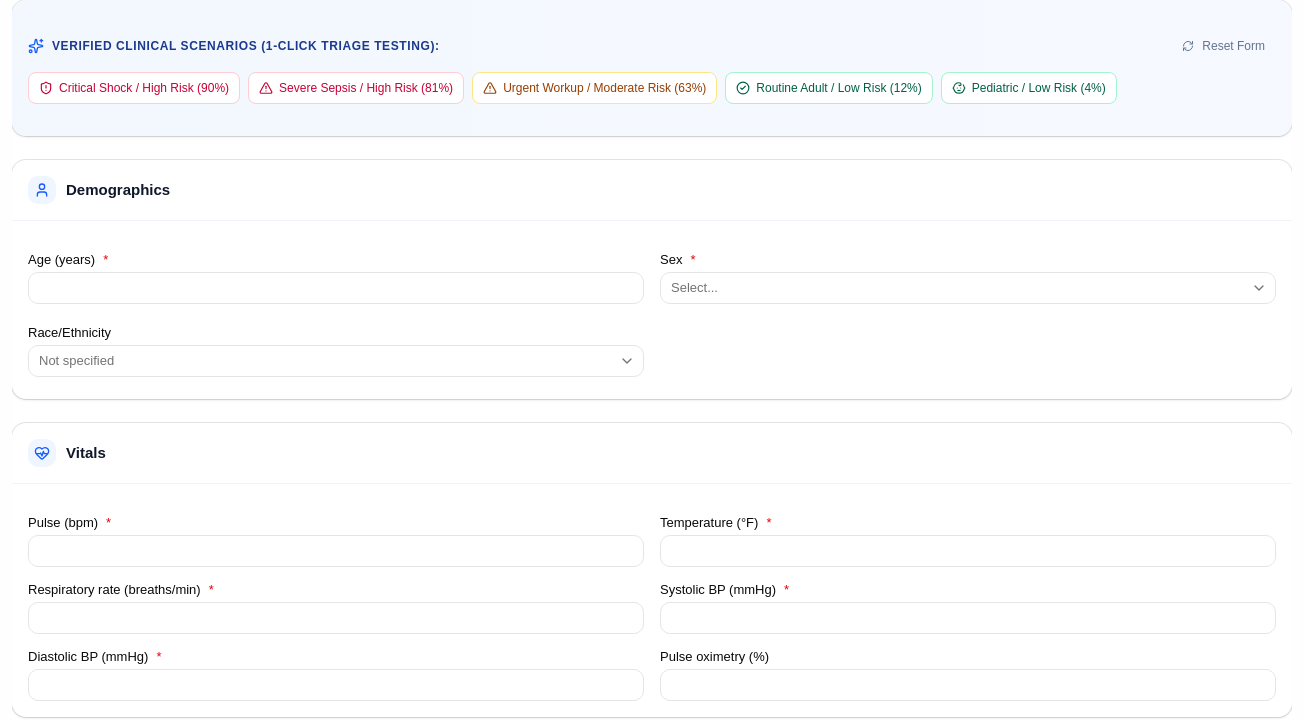
it: PatientRecordForm › shows the confirmed human-readable NHAMCS labels, not raw codes
This screenshot has width=1304, height=720.
Click the dropdown named "Sex": (694, 288) [660,272,1276,304]
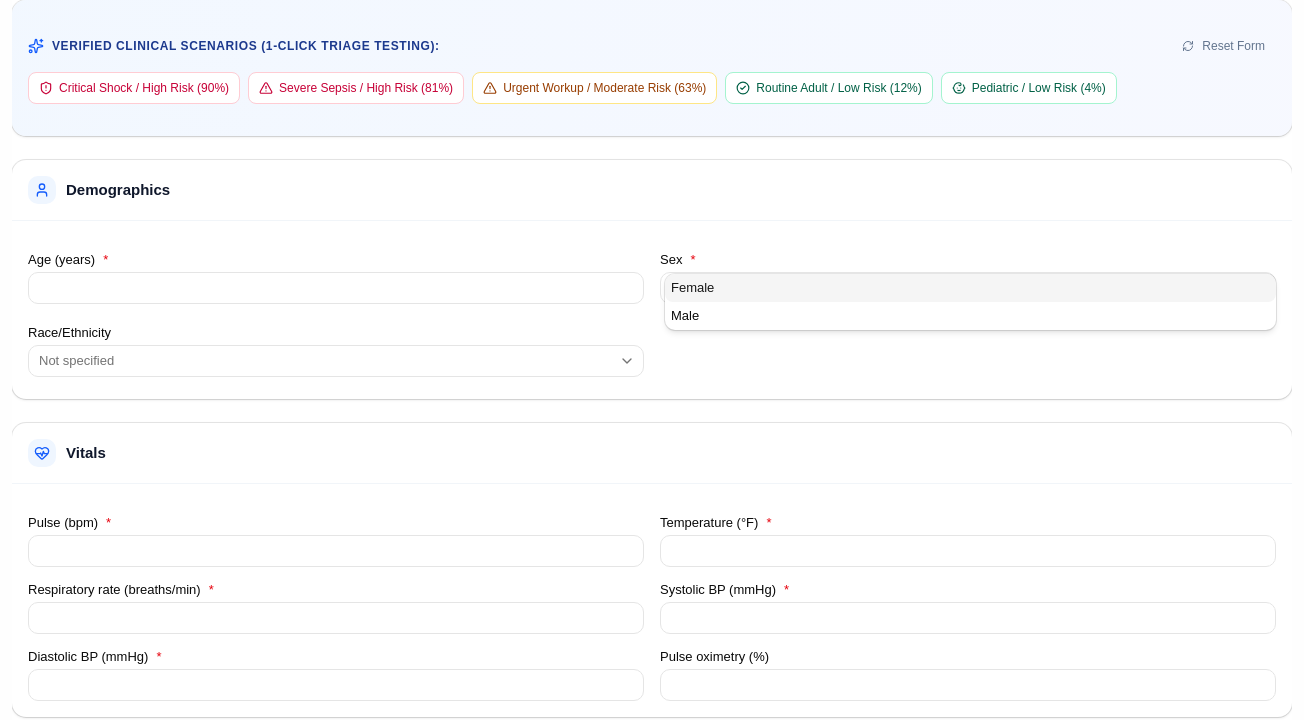
expect the option "Female" is shown: met, box [665,274,1276,302]
expect the option "Male" is shown: met, box [671,308,699,323]
Press Escape
(page scrolled)
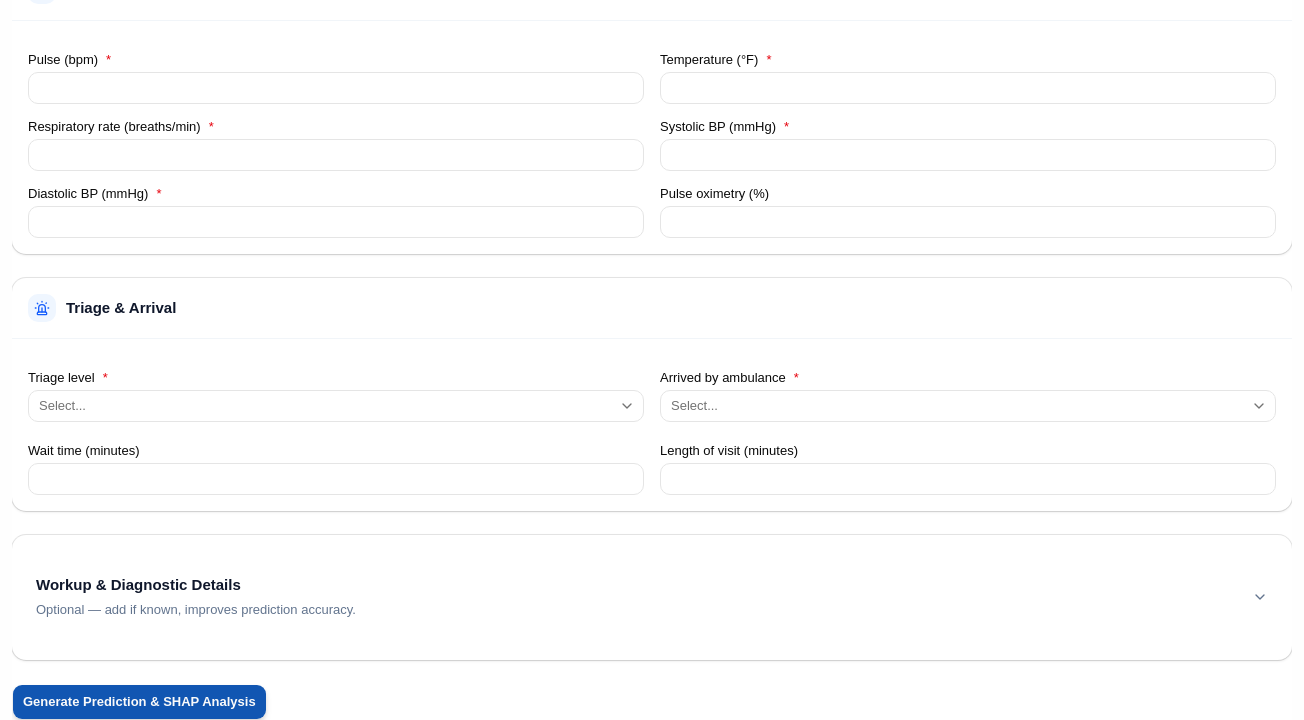
Click the dropdown named "Triage level": (62, 406) [28,390,644,422]
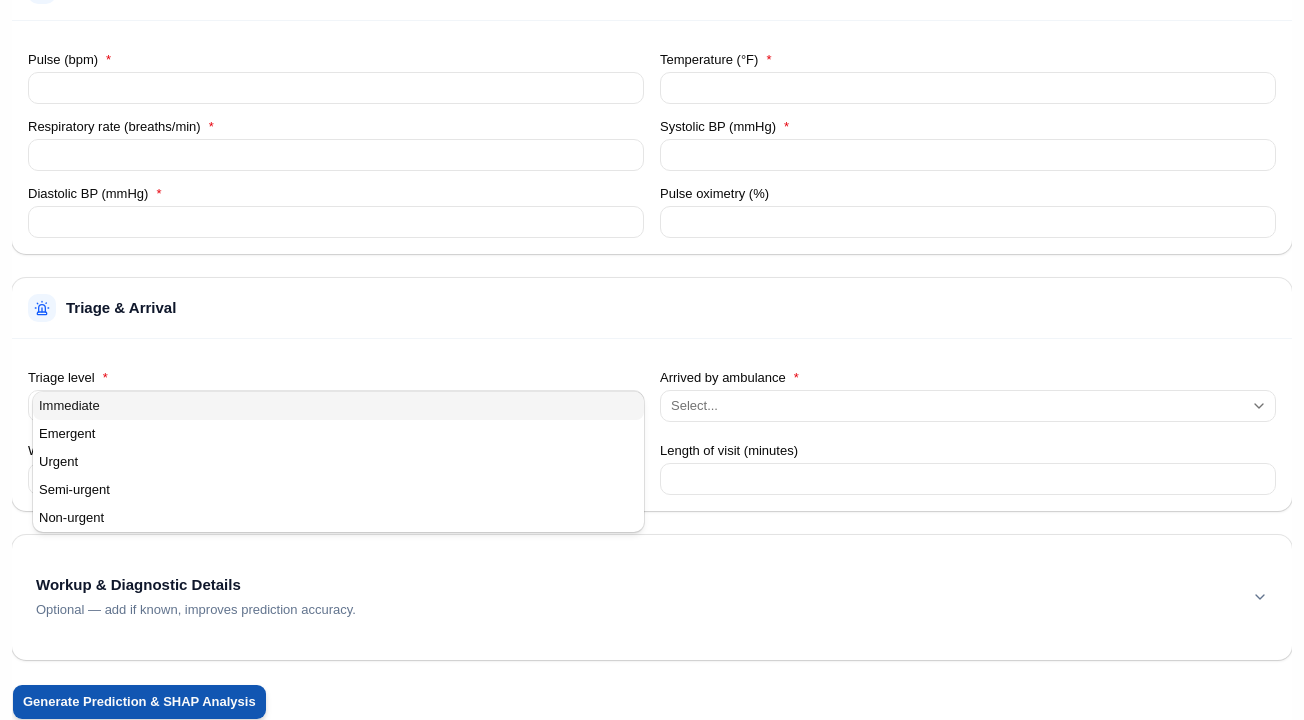
expect the option "Immediate" is shown: met, box [33,392,644,420]
expect the option "Non-urgent" is shown: met, box [39,510,104,525]
Press Escape
(page scrolled)
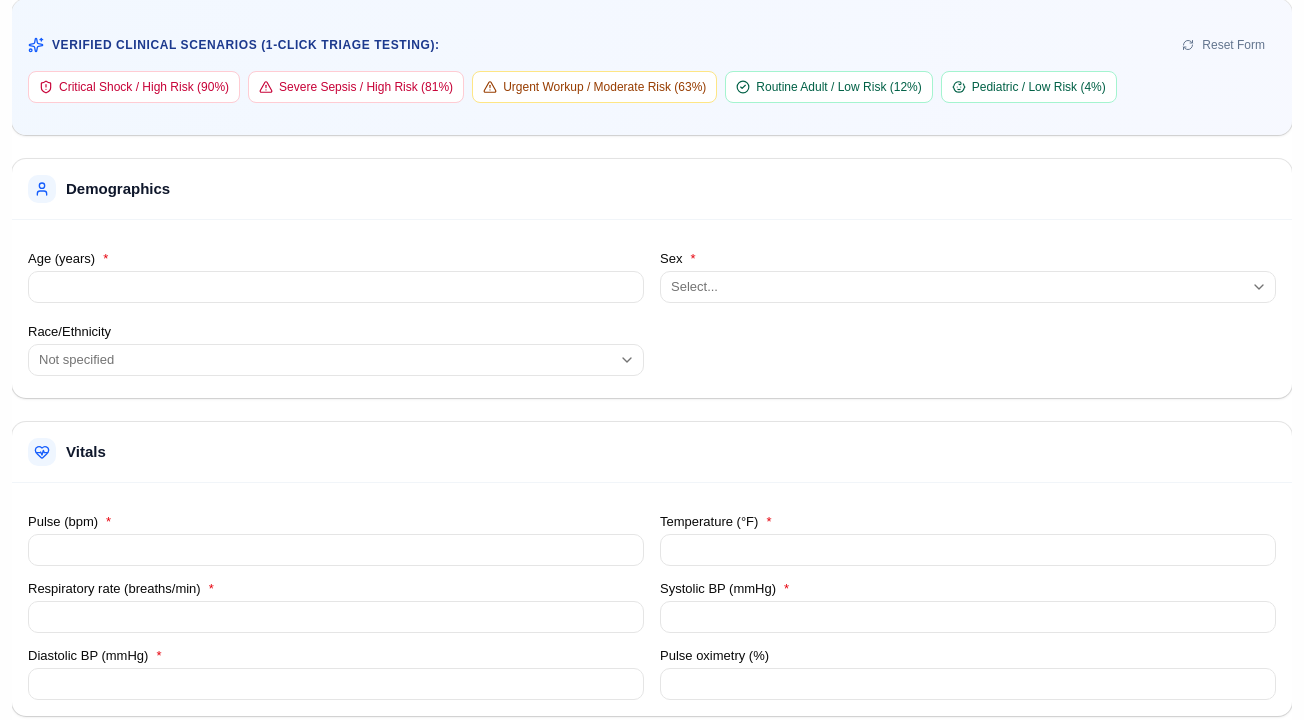
Click the dropdown named "Race/Ethnicity": (77, 360) [28,344,644,376]
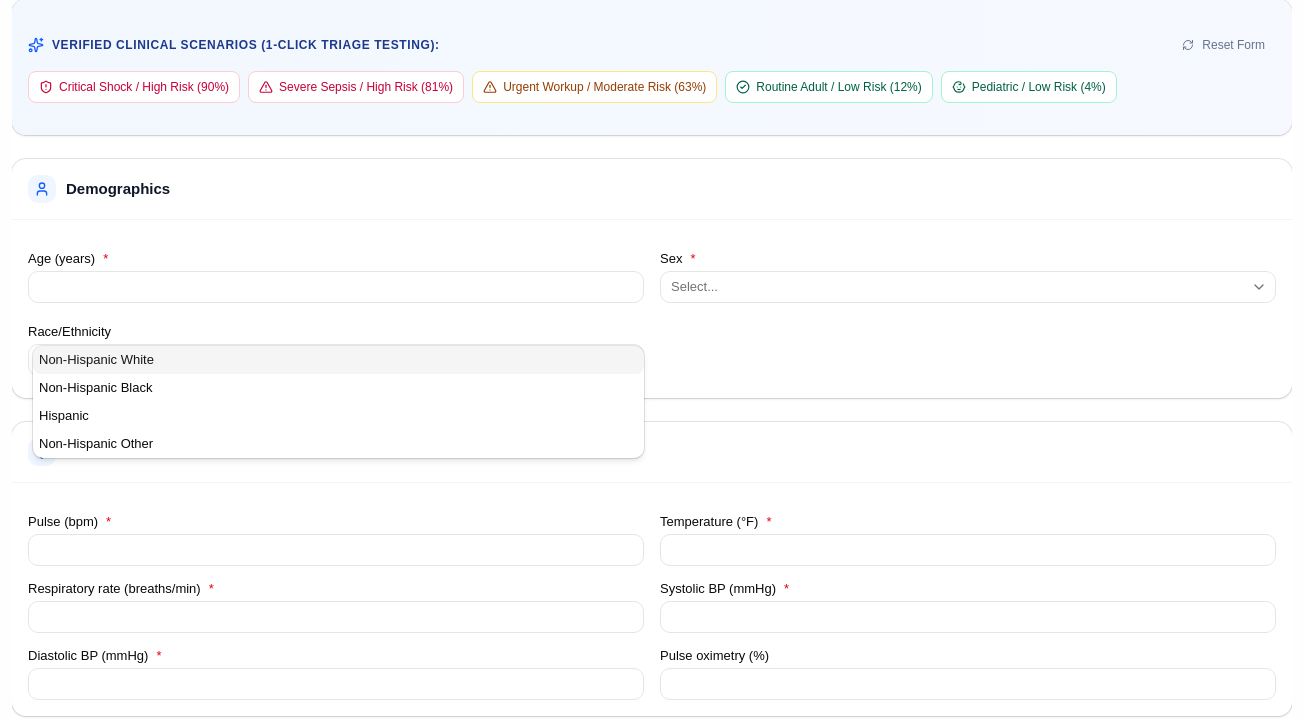
expect the option "Hispanic" is shown: met, box [39,408,89,423]
